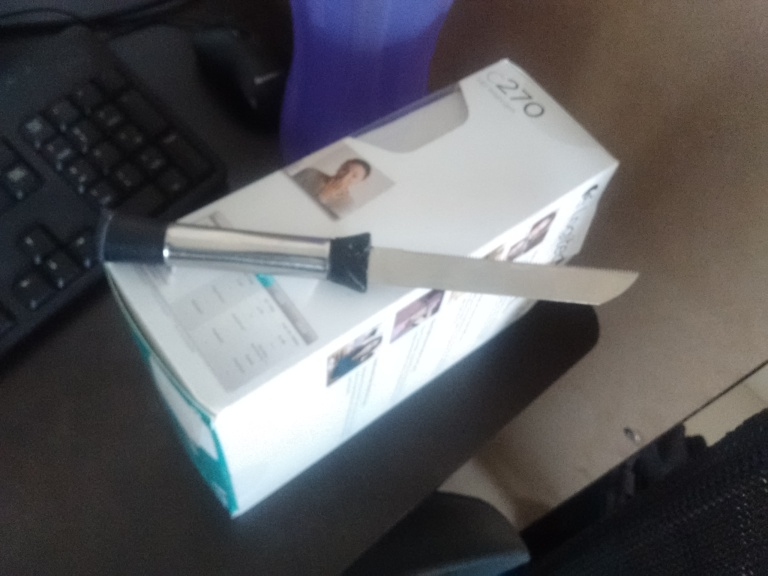knife: (87, 202, 642, 309)
